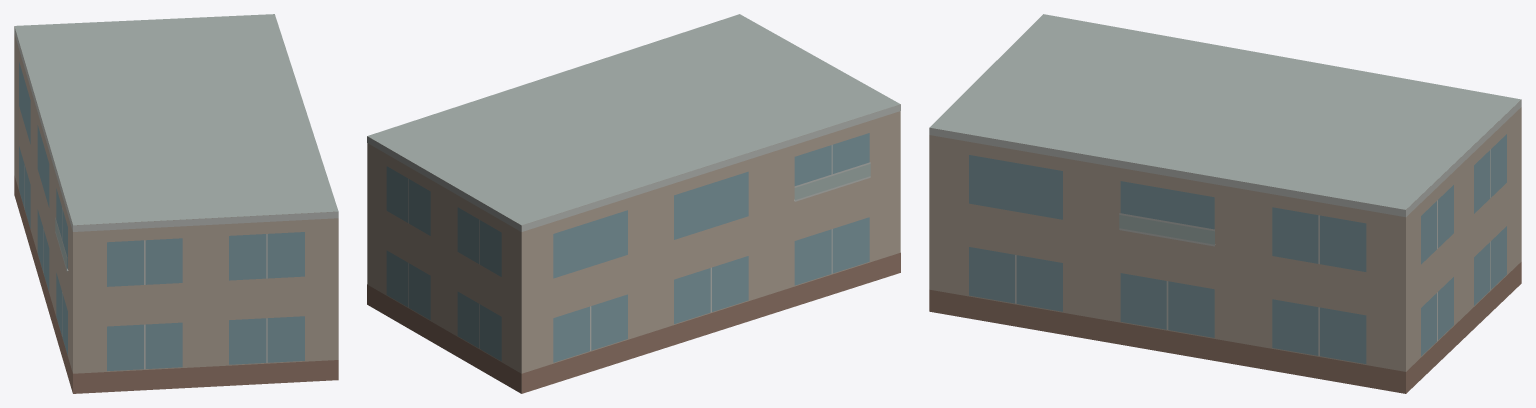
File: survey-upis-32862934.glb
3 views of the same model, side by side, from view 1: azimuth 30°, elevation 25°; view 2: azimuth 150°, elevation 25°; view 3: azimuth 270°, elevation 25° (orthographic). The views are drawn at different scales.
Parts seen in each view (by area): view 1: survey-upis-32862934.tmp; view 2: survey-upis-32862934.tmp; view 3: survey-upis-32862934.tmp.
Boxes of the visible parts, x1,y1,x2,y2 form: survey-upis-32862934.tmp: (14, 14, 338, 393); survey-upis-32862934.tmp: (367, 14, 900, 393); survey-upis-32862934.tmp: (929, 14, 1521, 393).
Size of the model in its own units: 13.94 by 6.1 by 17.81.
